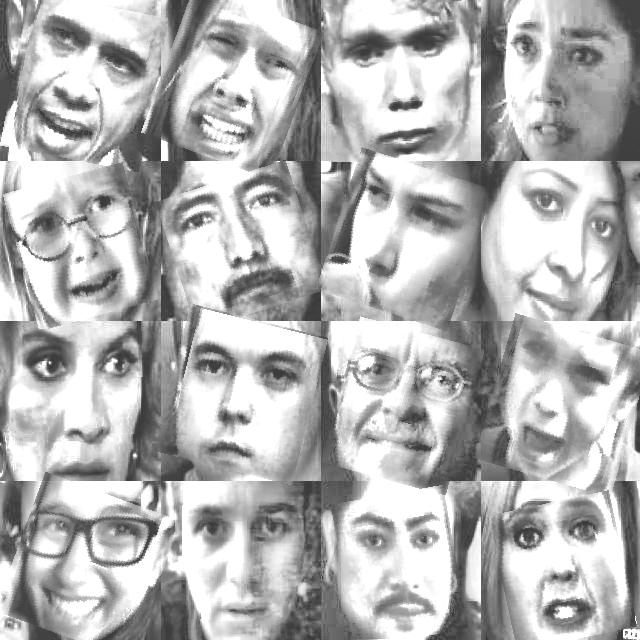angry: (326, 156, 484, 323), (483, 321, 640, 489), (6, 0, 161, 166), (494, 495, 630, 640), (337, 489, 462, 640)
fear: (6, 328, 152, 481)
happy: (4, 482, 169, 640), (330, 323, 476, 488)
neutral: (162, 312, 320, 478), (164, 169, 319, 323), (325, 2, 470, 161), (485, 169, 628, 315), (173, 483, 303, 640)
sad: (152, 0, 313, 169), (490, 0, 635, 154), (11, 169, 151, 325)
